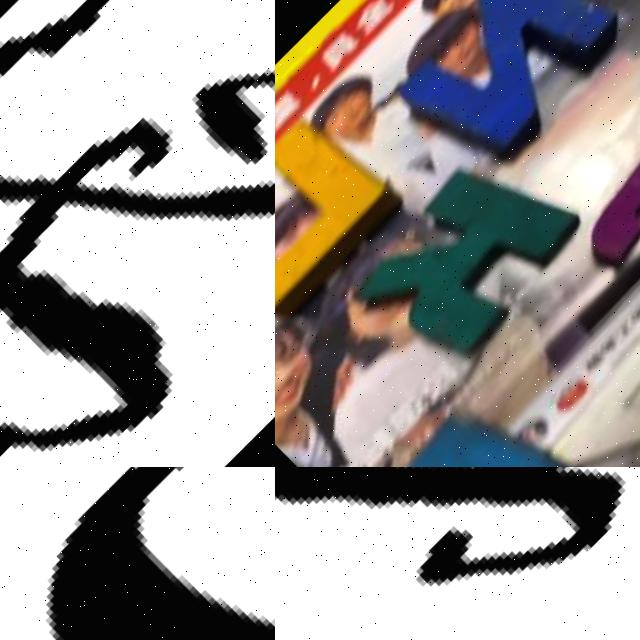6: (0, 467, 275, 640)
A: (0, 0, 275, 467)
K: (334, 139, 587, 407)
L: (275, 91, 413, 339)
N: (382, 0, 623, 201)
P: (349, 372, 587, 467)
S: (563, 72, 640, 355)
U: (275, 467, 640, 640)
Z: (537, 256, 640, 467)
